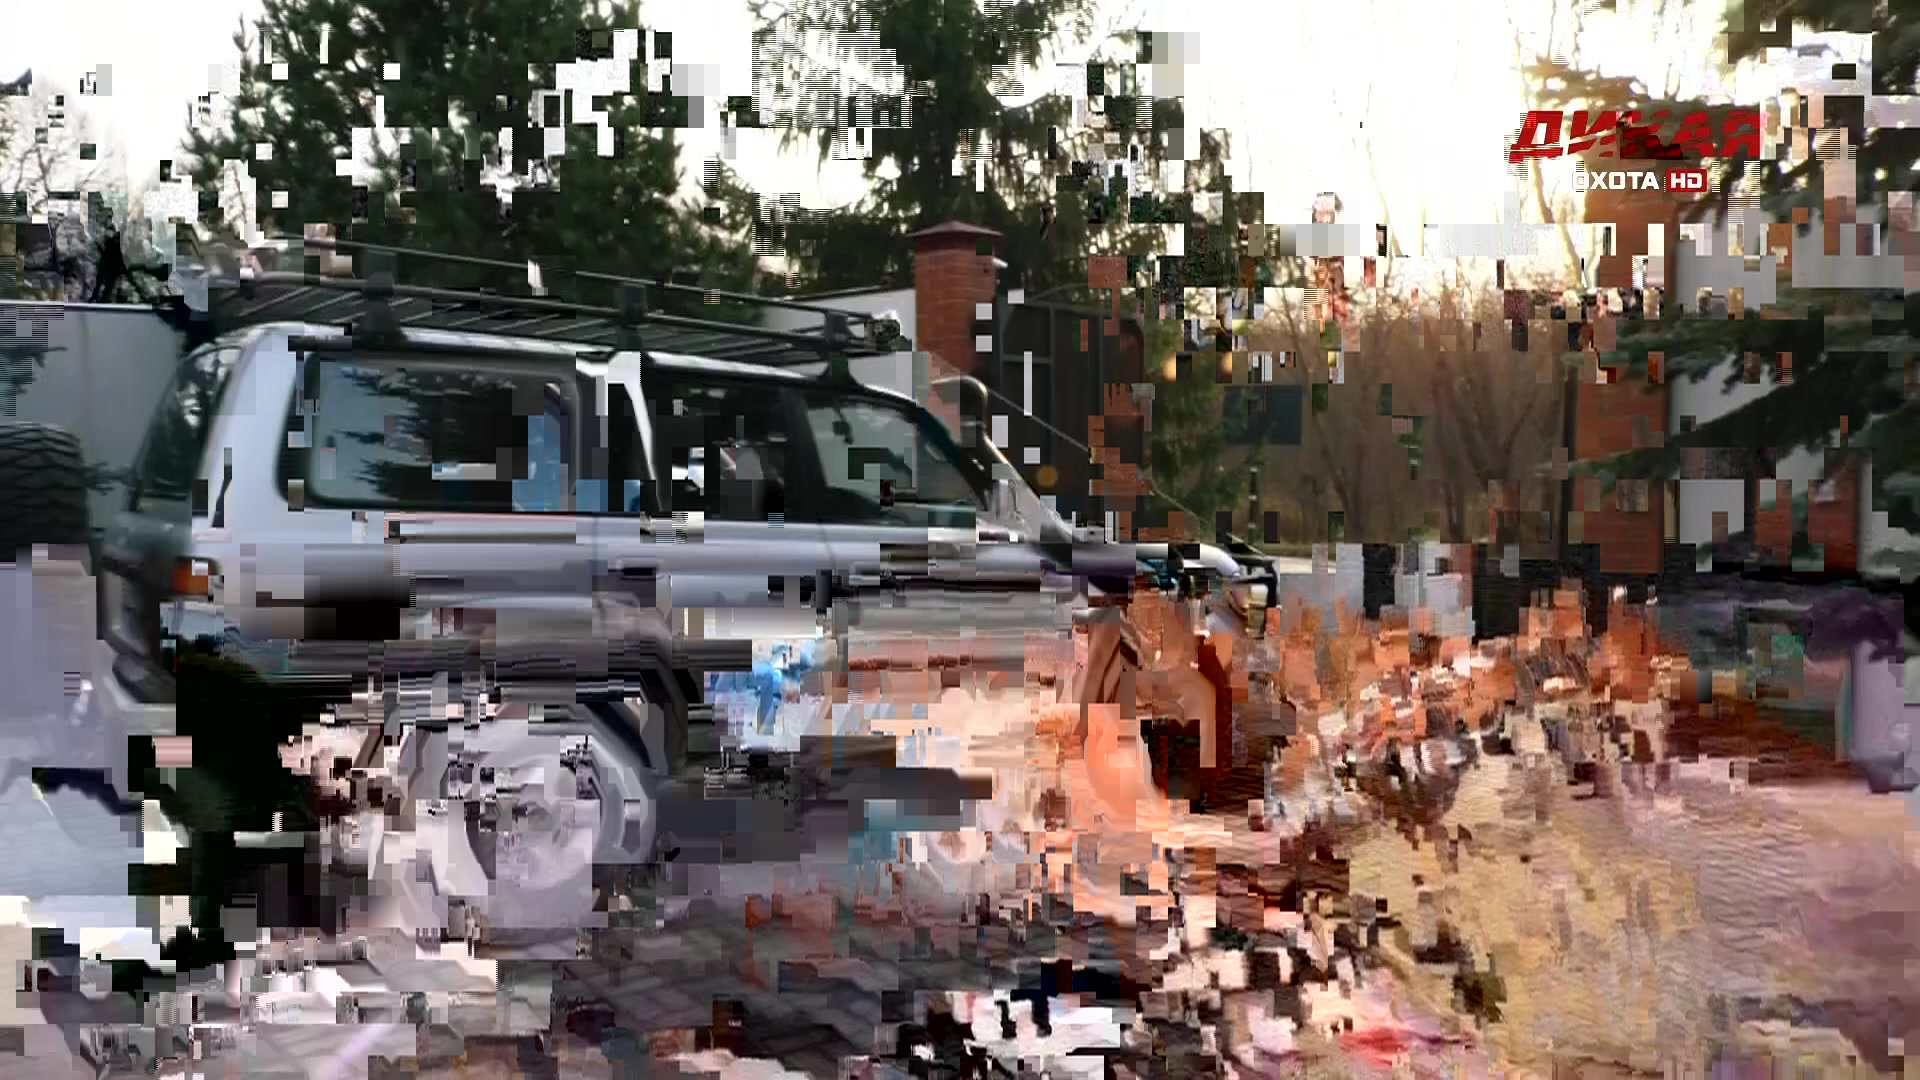Dikaya_Ohota_HD: (1503, 108, 1774, 196)
